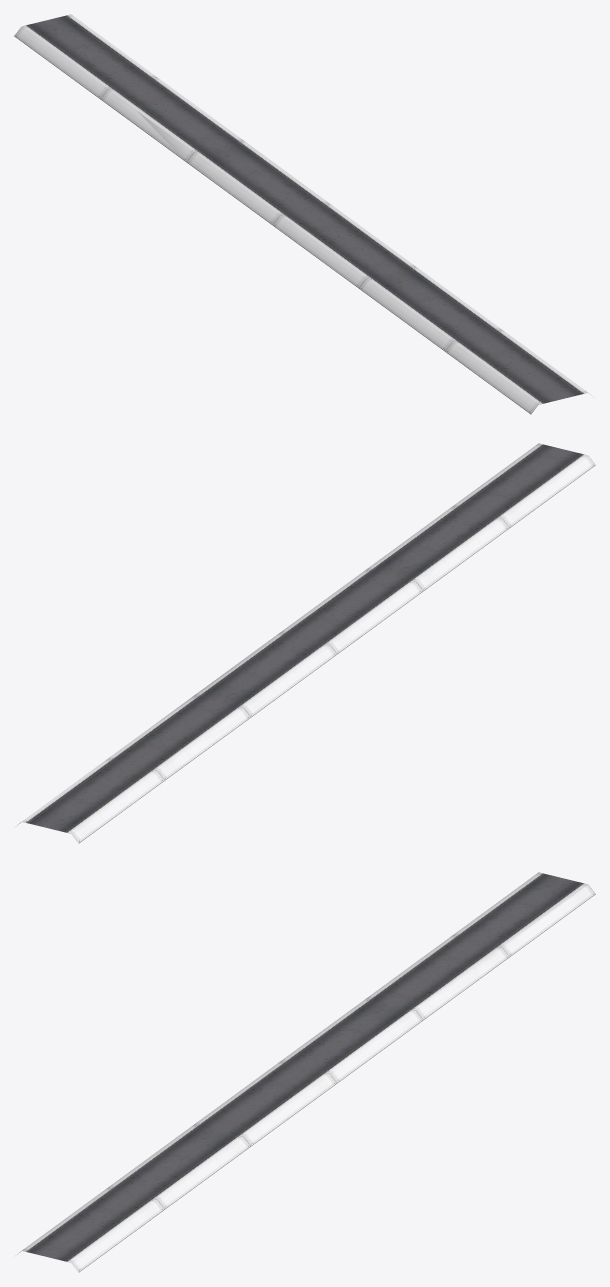
Rendered from GroundTrimCap_1x18top.FBX.
3 views of the same model, one above another, from view 1: azimuth 30°, elevation 25°; view 2: azimuth 150°, elevation 25°; view 3: azimuth 330°, elevation 25° (orthographic).
Visible parts, largest first — view 1: GroundTrimCap_1x18top; view 2: GroundTrimCap_1x18top; view 3: GroundTrimCap_1x18top.
Part boxes in pixels (left/top/right/bottom): GroundTrimCap_1x18top: left=14, top=14, right=592, bottom=414; GroundTrimCap_1x18top: left=17, top=443, right=595, bottom=843; GroundTrimCap_1x18top: left=17, top=872, right=595, bottom=1272.
Size of the model in its own units: 1.3 by 0.152 by 18.
